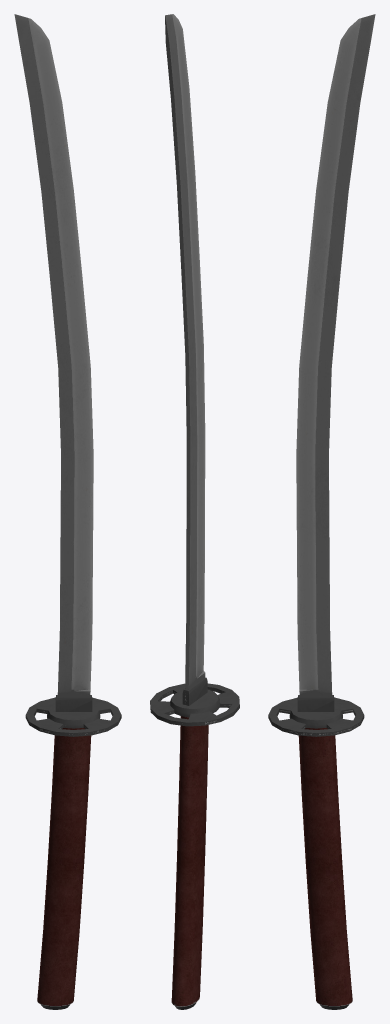
File: cc0-melee-weapons-pack-glb--katana.glb
3 renders of one model, left to right at view 1: azimuth 90°, elevation 25°; view 2: azimuth 150°, elevation 25°; view 3: azimuth 270°, elevation 25°, orthographic.
Visible parts, largest first — view 1: Katana; view 2: Katana; view 3: Katana.
Boxes of the visible parts, <box> form: Katana: <box>14,14,121,1009</box>; Katana: <box>150,14,239,1009</box>; Katana: <box>268,14,375,1009</box>.
Size of the model in its own units: 0.0865 by 1.08 by 0.1055.
1 material, 1 textured.
